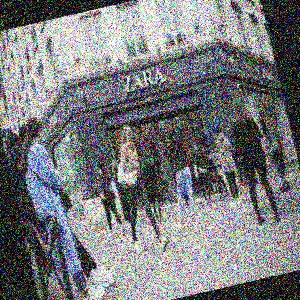zara: (114, 31, 229, 93)
